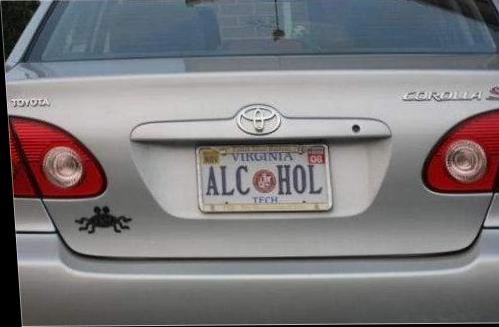License_Plate: (185, 138, 344, 225)
